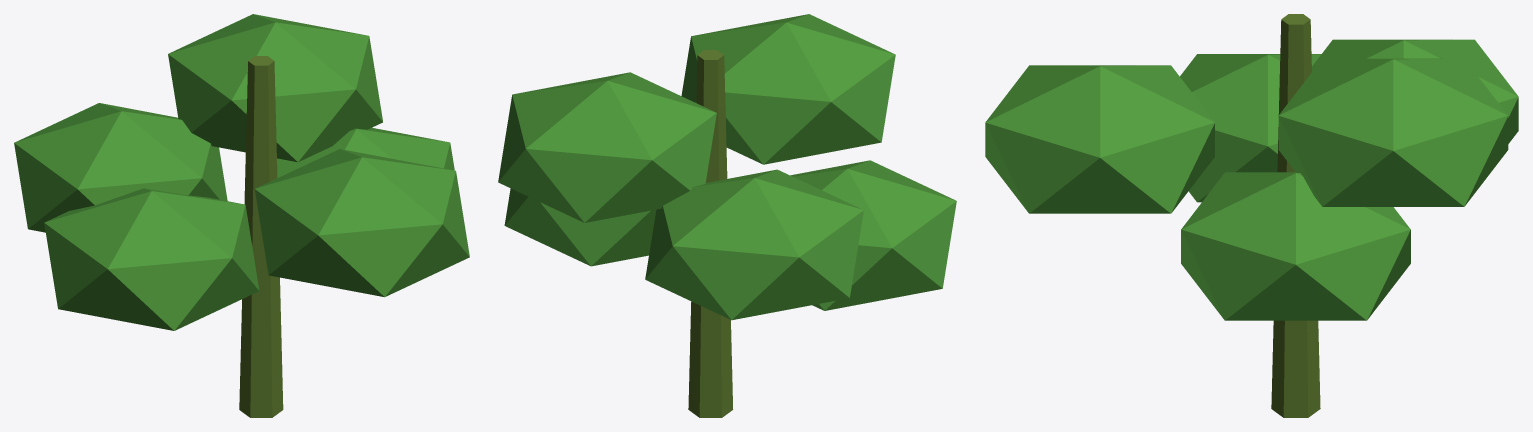
The model's file is f03-tanaman-2.glb.
3 renders of one model, left to right at view 1: azimuth 30°, elevation 25°; view 2: azimuth 150°, elevation 25°; view 3: azimuth 270°, elevation 25°, orthographic. The views are drawn at different scales.
Parts seen in each view (by area): view 1: EX_kebun:daun, EX_kebun:batang.001; view 2: EX_kebun:daun, EX_kebun:batang.001; view 3: EX_kebun:daun, EX_kebun:batang.001.
Boxes of the visible parts, x1,y1,x2,y2 form: EX_kebun:daun: (14,14,469,330); EX_kebun:batang.001: (239,56,283,417); EX_kebun:daun: (498,14,956,320); EX_kebun:batang.001: (688,50,733,417); EX_kebun:daun: (985,39,1518,320); EX_kebun:batang.001: (1271,14,1320,417).
Bounding box in the file's own units: 0.4248 × 0.35 × 0.4343.
